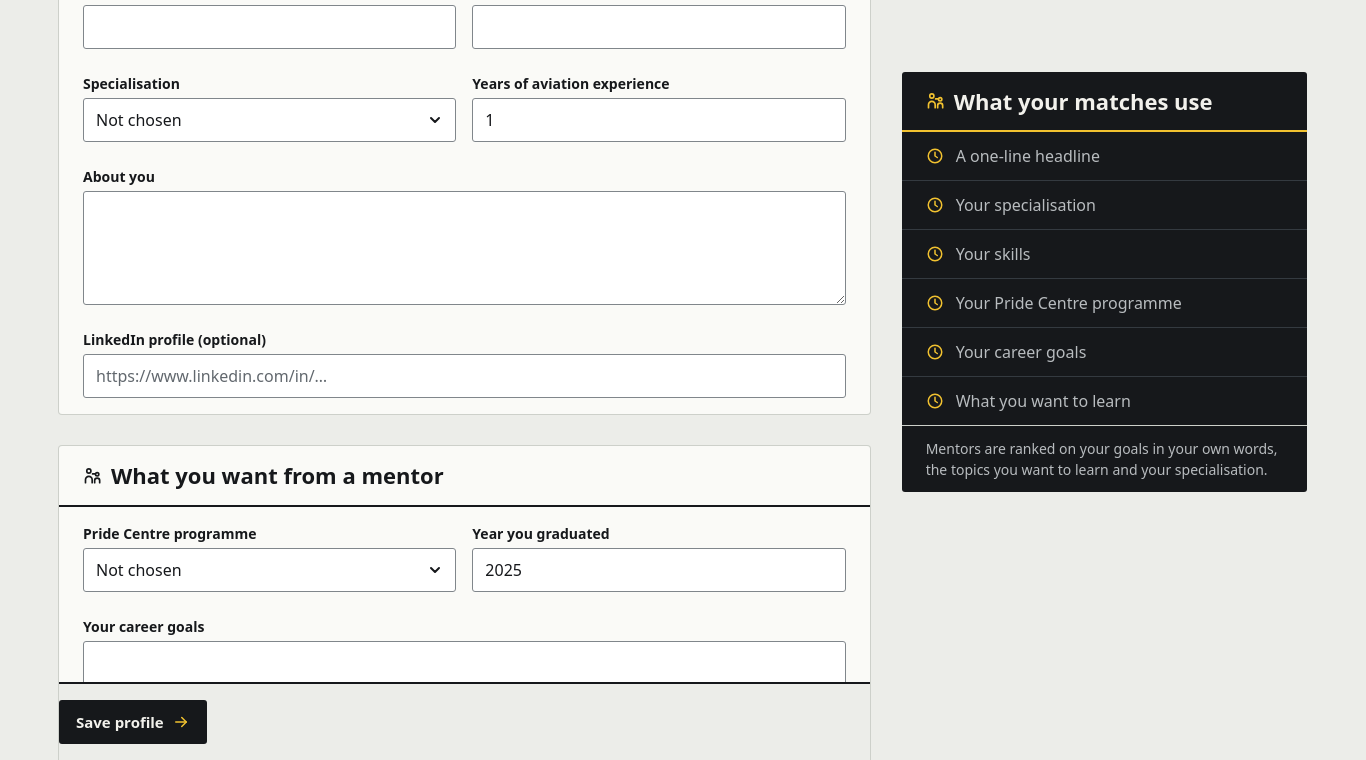
Test: Profile › shows API field errors on the matching field
(page scrolled)
Type "nope" into the field labelled "LinkedIn profile (optional)" at [464, 376], box 83,354 -> 846,398
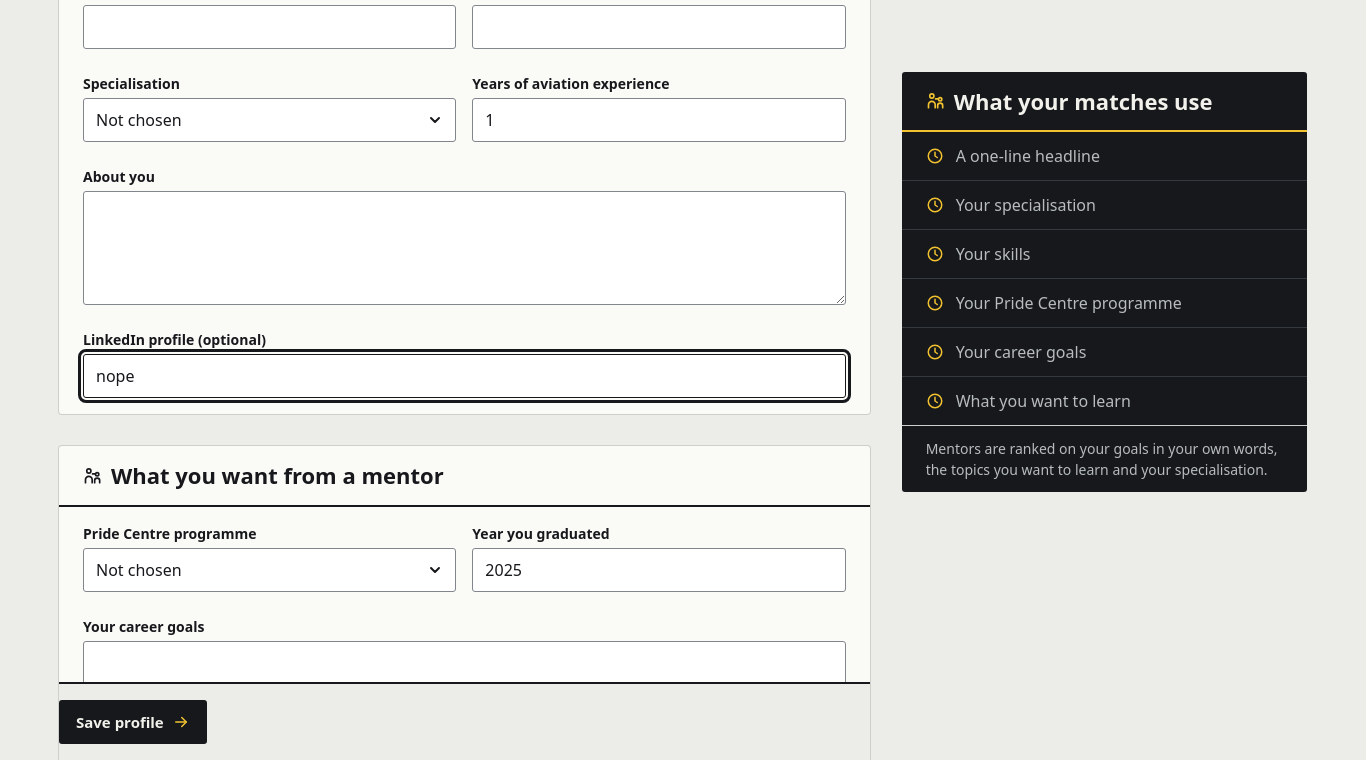
Click the button "Save profile" at [133, 722], box 59,700 -> 207,744
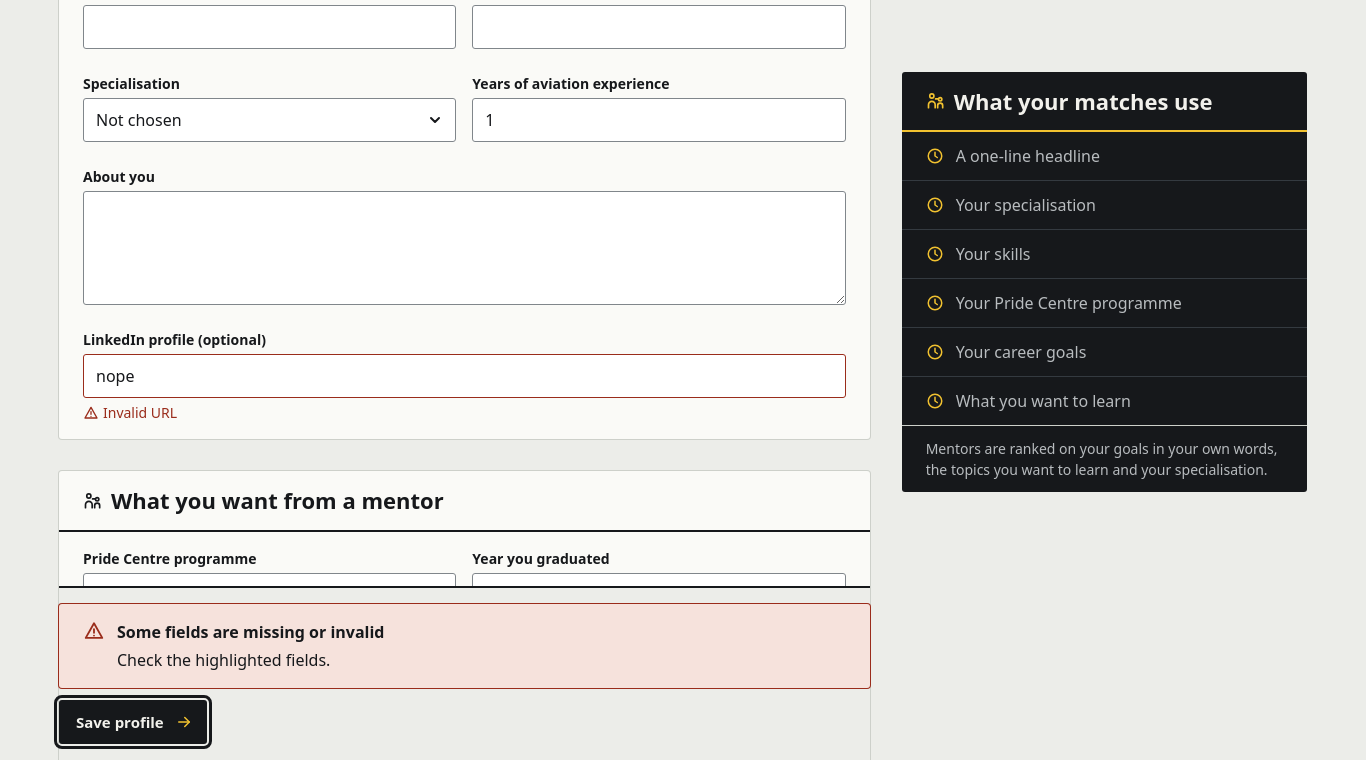
Result: the text "Invalid URL" is shown at 83,403 -> 177,422
